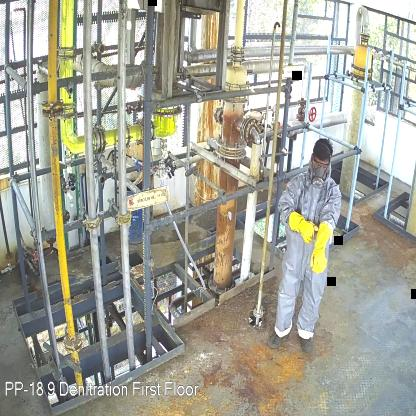goggles: (312, 158, 330, 168)
mask: (310, 165, 327, 189)
